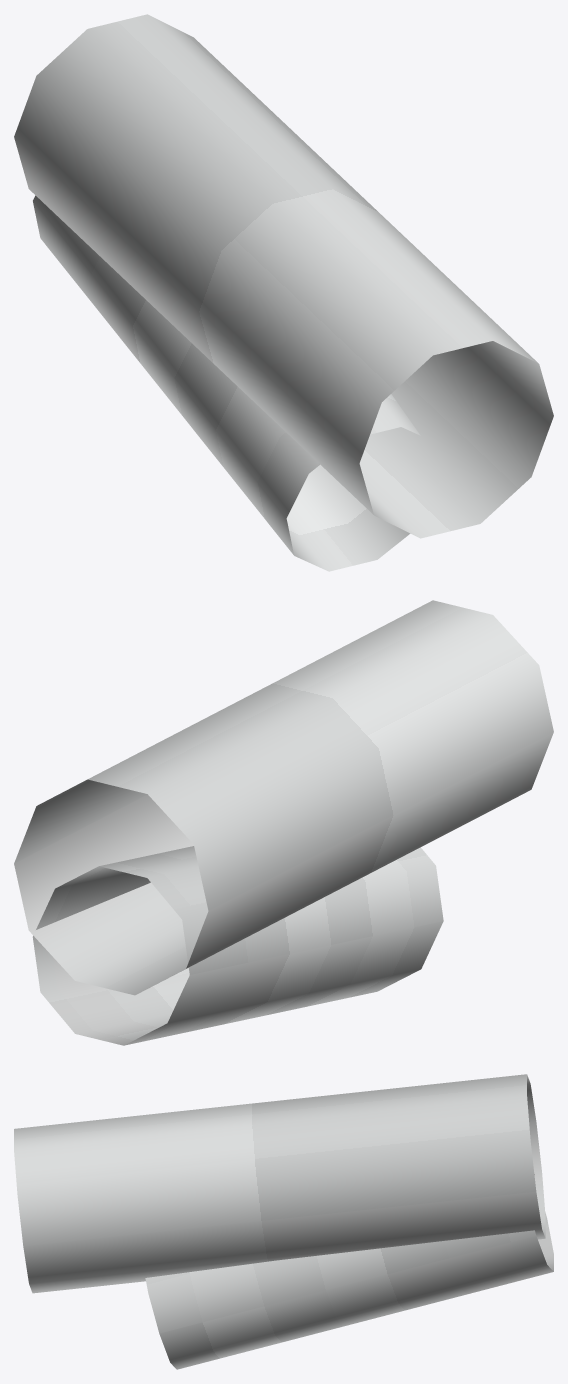
Rendered from trusssignalarm_sloped8_c12.obj.
3 renders of one model, top to bottom at view 1: azimuth 30°, elevation 25°; view 2: azimuth 150°, elevation 25°; view 3: azimuth 270°, elevation 25°, orthographic. The views are drawn at different scales.
Visible parts, largest first — view 1: trusssignalarm_sloped8_c12; view 2: trusssignalarm_sloped8_c12; view 3: trusssignalarm_sloped8_c12.
Part boxes in pixels (x1,y1,x2,y2): trusssignalarm_sloped8_c12: [14, 14, 553, 571]; trusssignalarm_sloped8_c12: [14, 600, 553, 1045]; trusssignalarm_sloped8_c12: [14, 1074, 553, 1369].
Bounding box in the file's own units: 0.325 × 0.5933 × 1.05.
